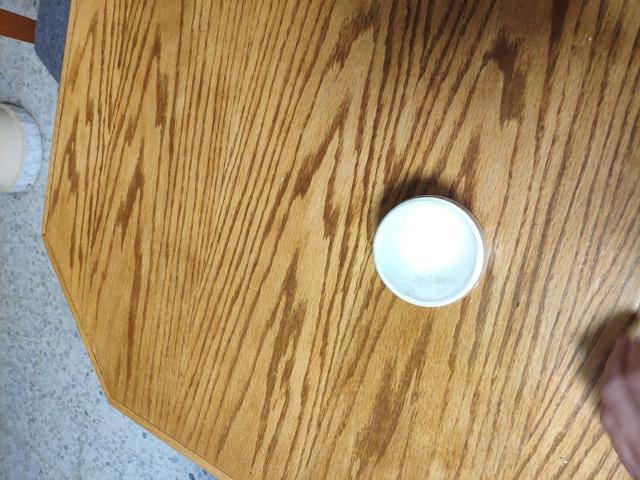cotage: (361, 199, 498, 311)
